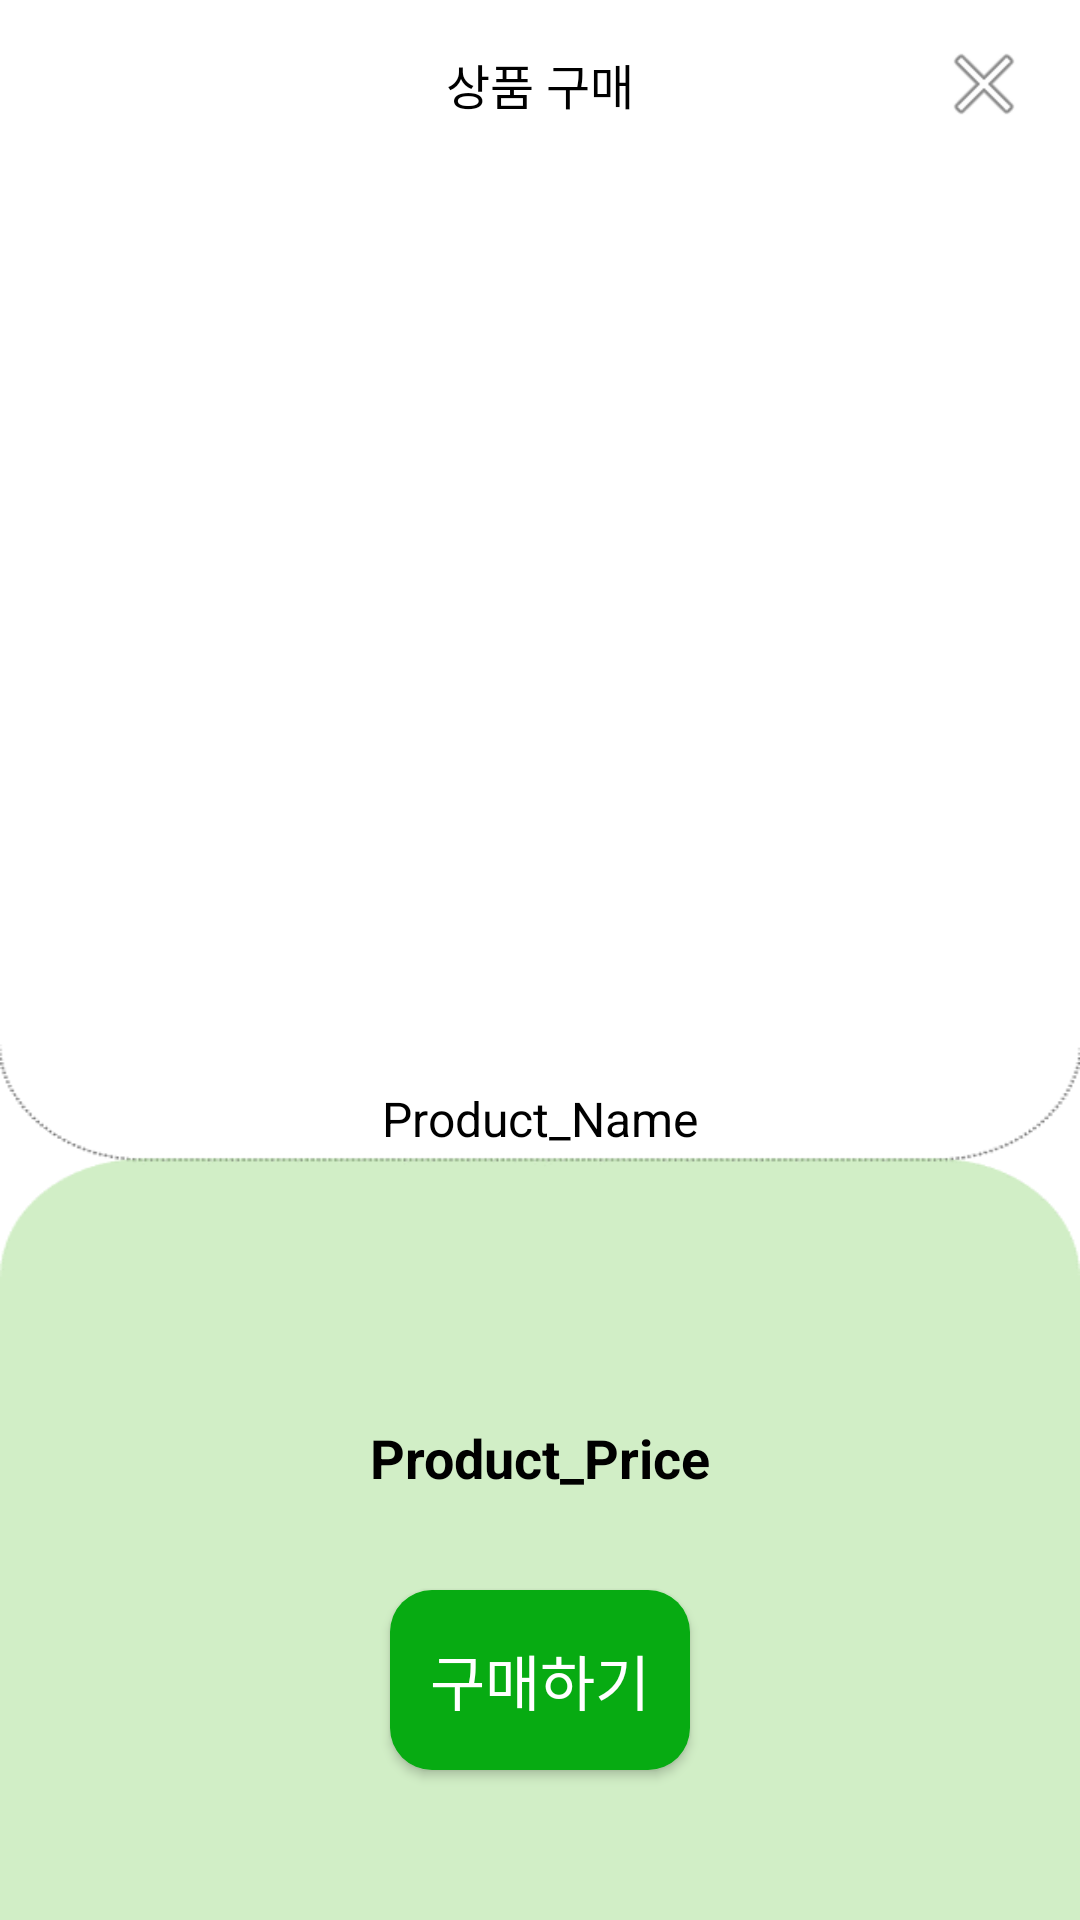

Point at icon controls on the screen. Image size 1080 x 1920, points as (x,y).
close clear cancel: (984,84)
